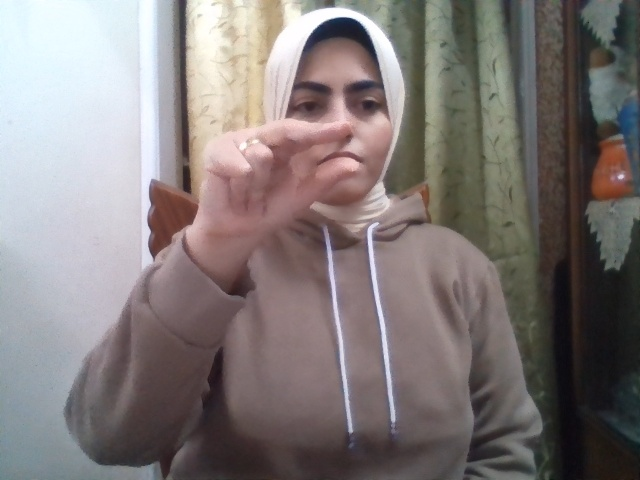no: (198, 118, 357, 243)
